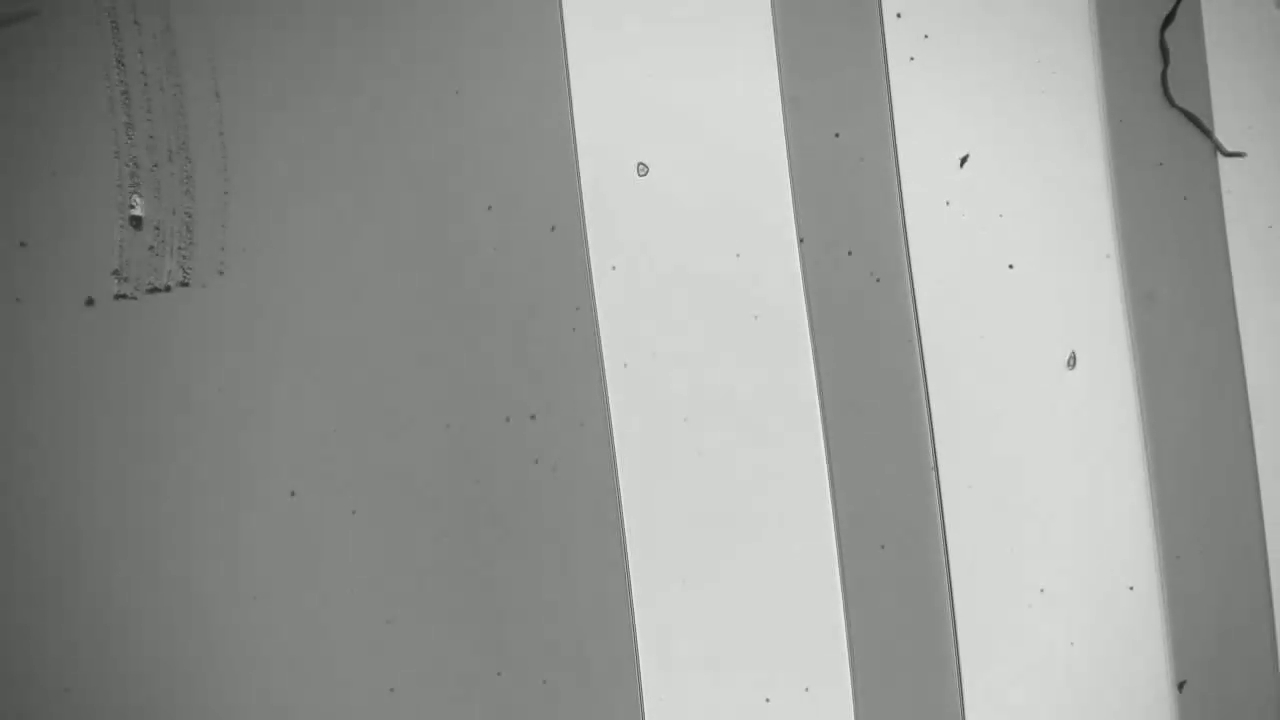scratch: (98, 1, 221, 305)
